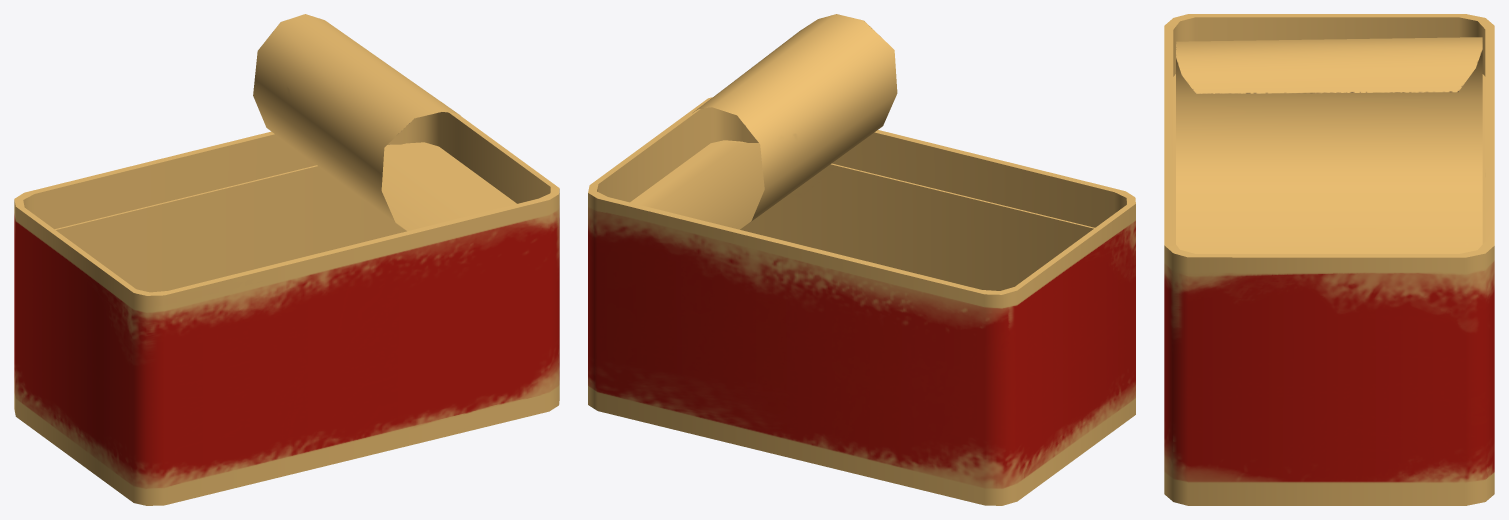
The model's file is kaleng kornet.fbx.
The picture shows the model from 3 angles, left to right: view 1: azimuth 30°, elevation 25°; view 2: azimuth 150°, elevation 25°; view 3: azimuth 270°, elevation 25°; orthographic projection. The views are drawn at different scales.
Parts seen in each view (by area): view 1: Cube.002; view 2: Cube.002; view 3: Cube.002.
Boxes of the visible parts, box(x1,y1,x2,y2) form: Cube.002: box(14, 14, 559, 505); Cube.002: box(588, 14, 1135, 505); Cube.002: box(1164, 14, 1494, 505).
Bounding box in the file's own units: 0.2278 × 0.1662 × 0.13.
Materials: 1 (1 with a texture image).
